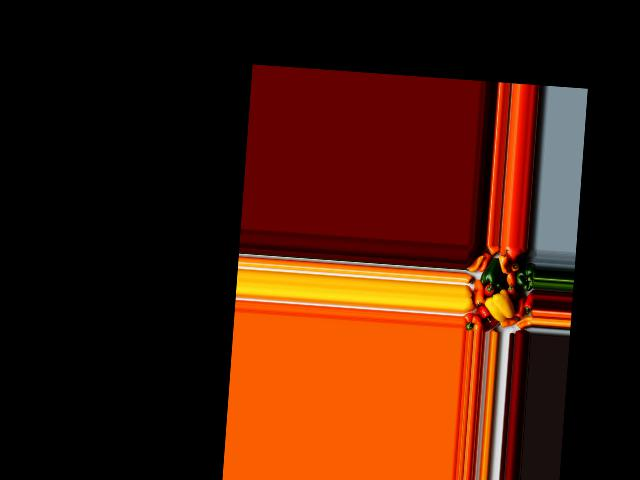bell_pepper: (521, 291, 534, 314)
